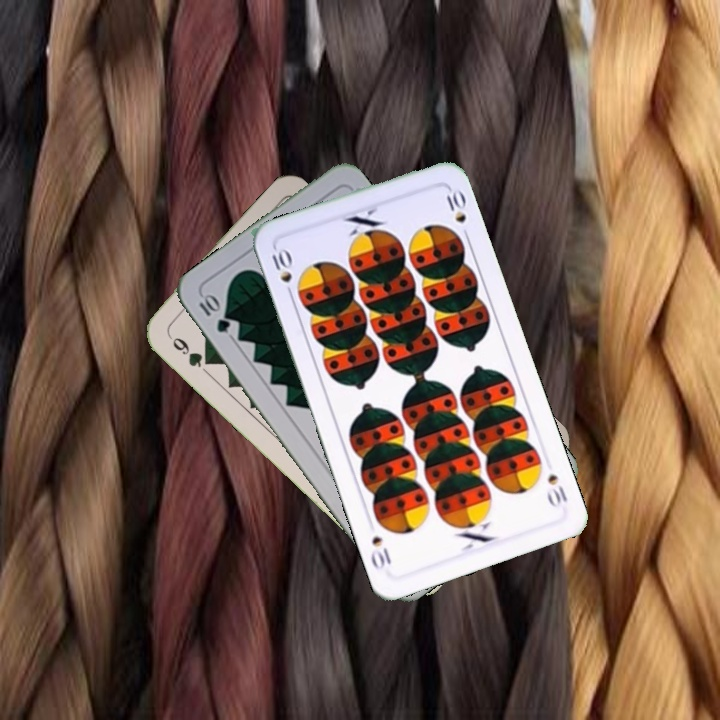G10: (195, 290, 233, 336)
G9: (163, 329, 215, 370)
S10: (268, 243, 296, 301), (543, 469, 570, 510)
